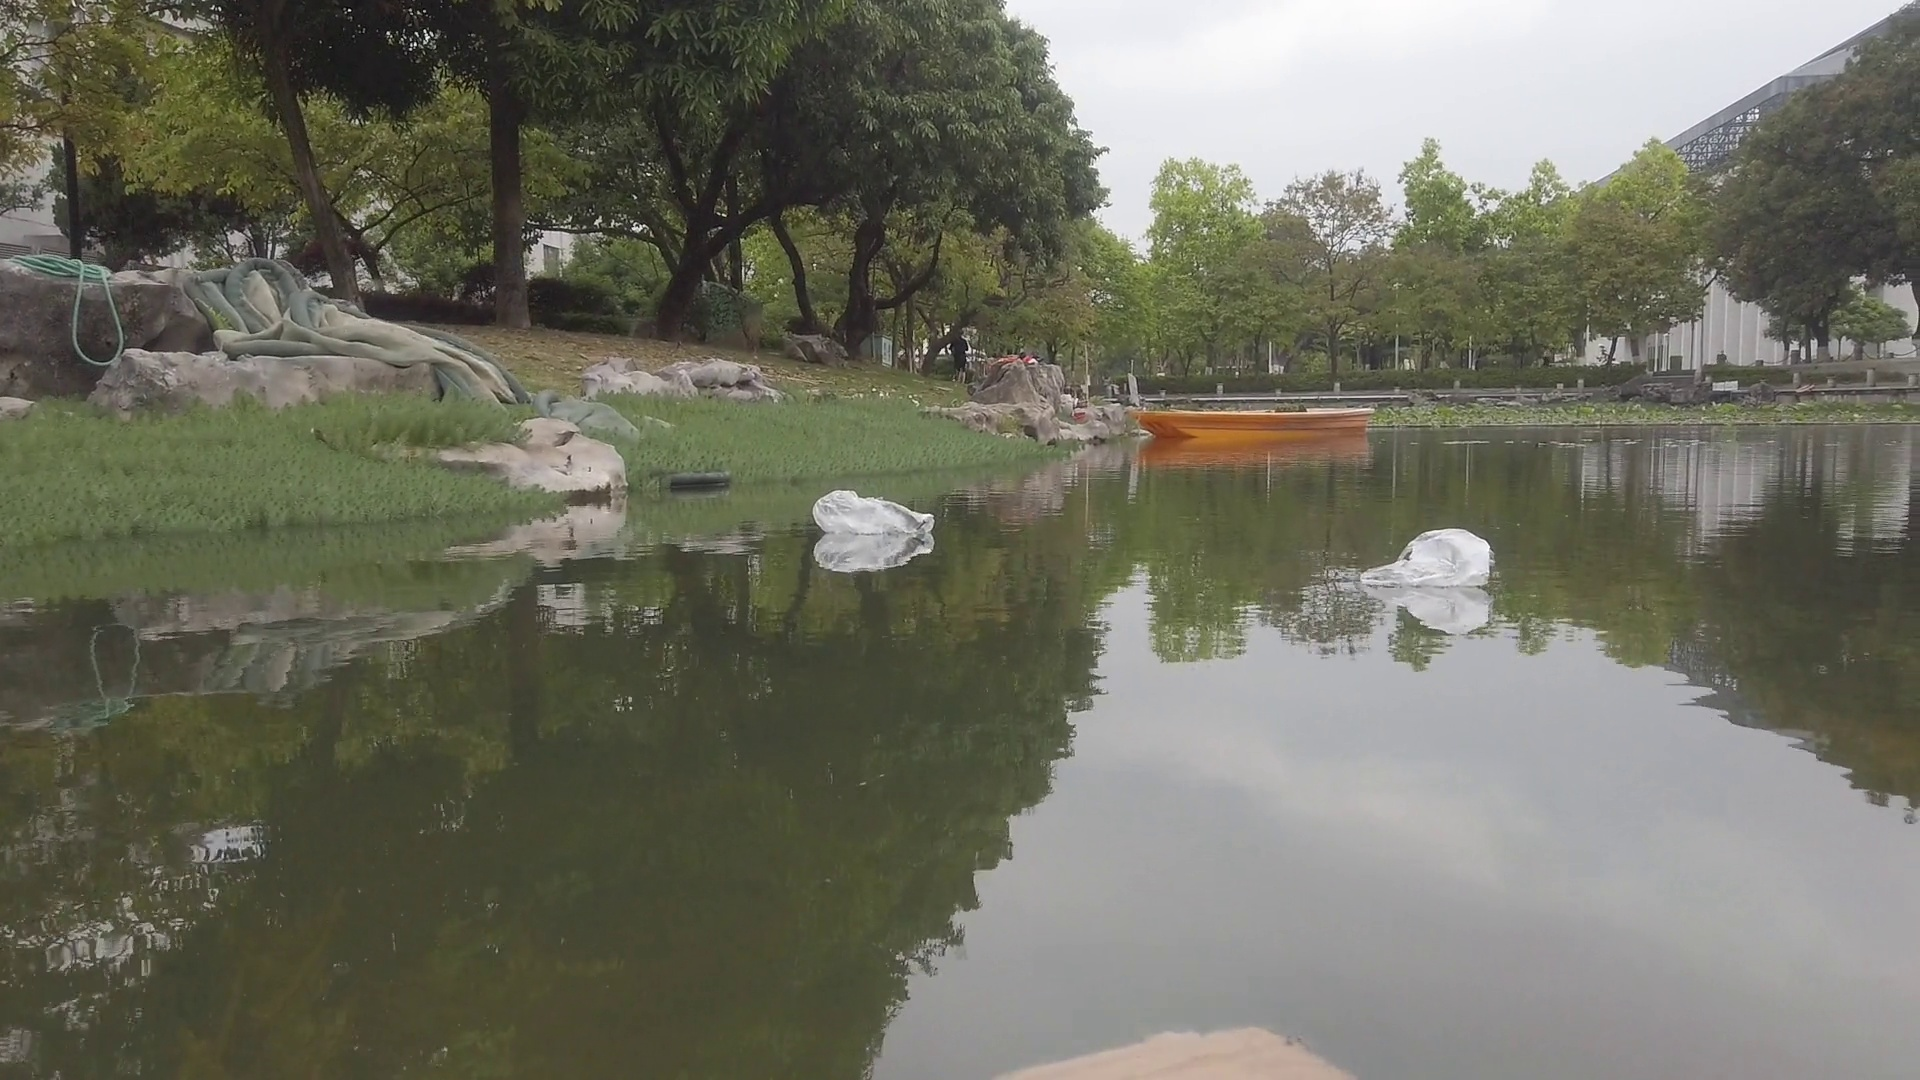paper: (953, 1010, 1360, 1080)
plastic: (1371, 527, 1490, 589), (814, 492, 928, 539)
